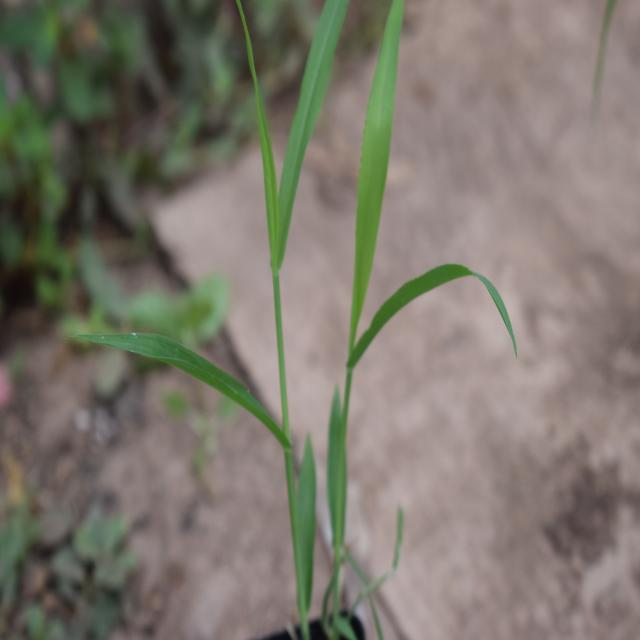crabgrass: (148, 0, 498, 549)
